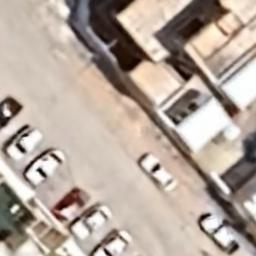pickup: (194, 210, 242, 256)
sedan: (136, 152, 178, 194), (68, 202, 114, 240), (22, 148, 66, 187), (49, 186, 92, 224), (5, 125, 45, 163), (89, 227, 132, 256), (1, 94, 25, 126)
